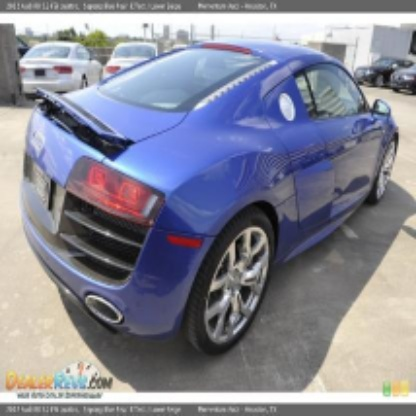Vehicle: (20, 41, 401, 363)
